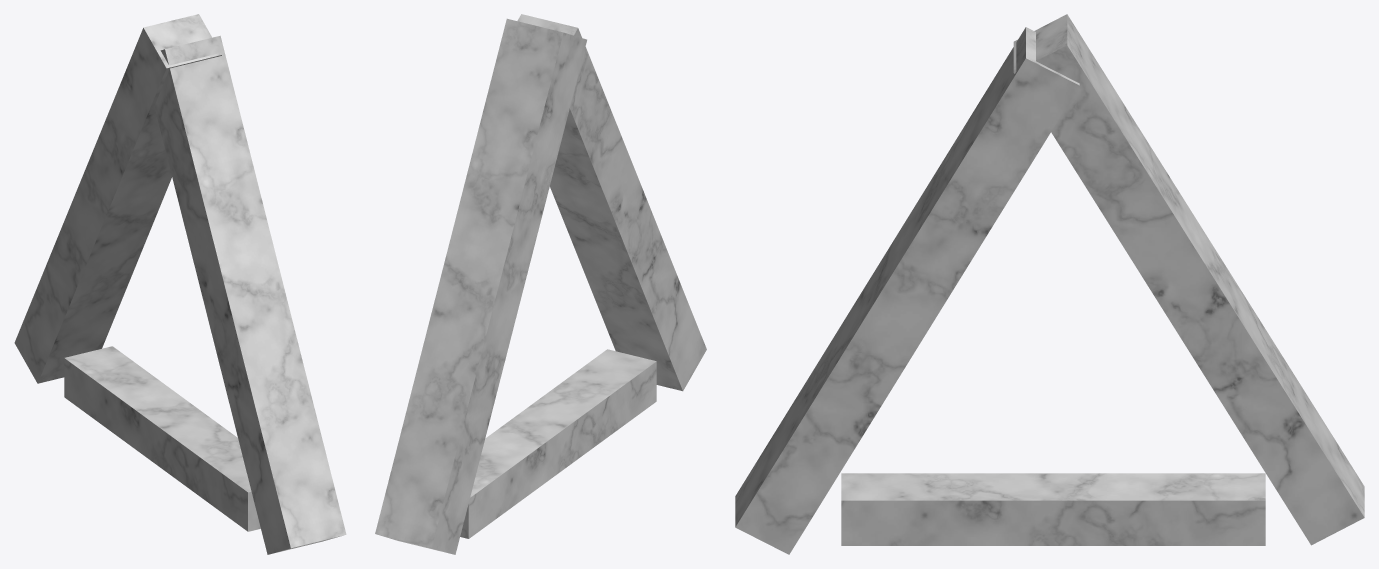
File: altspace.dae
3 renders of one model, left to right at view 1: azimuth 30°, elevation 25°; view 2: azimuth 150°, elevation 25°; view 3: azimuth 270°, elevation 25°, orthographic. The views are drawn at different scales.
Visible parts, largest first — view 1: SketchUp_001, SketchUp_002, SketchUp; view 2: SketchUp_002, SketchUp_001, SketchUp; view 3: SketchUp_001, SketchUp_002, SketchUp.
Boxes of the visible parts, x1,y1,x2,y2 form: SketchUp_001: (154,35,346,554); SketchUp_002: (14,14,221,383); SketchUp: (64,346,260,531); SketchUp_002: (375,18,586,554); SketchUp_001: (517,14,706,391); SketchUp: (460,349,656,538); SketchUp_001: (735,27,1079,554); SketchUp_002: (1013,14,1364,545); SketchUp: (841,473,1265,545).
Size of the model in its own units: 0.168 by 1.34 by 1.19.
1 material, 1 textured.
